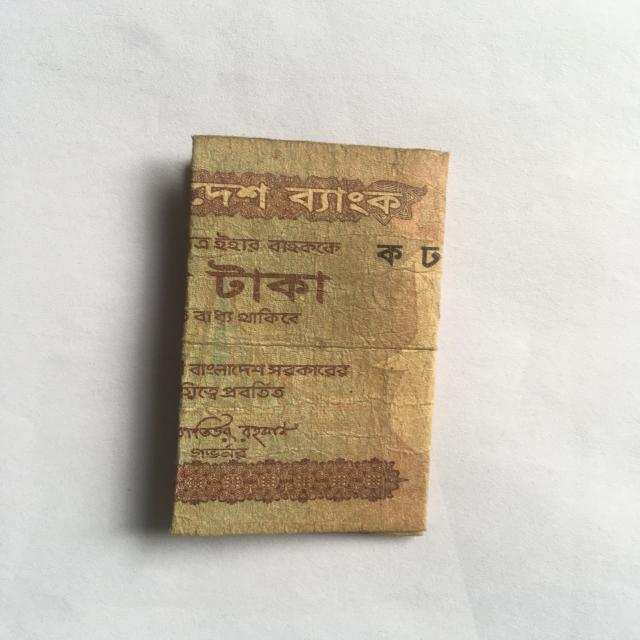Taka: (189, 128, 435, 538)
